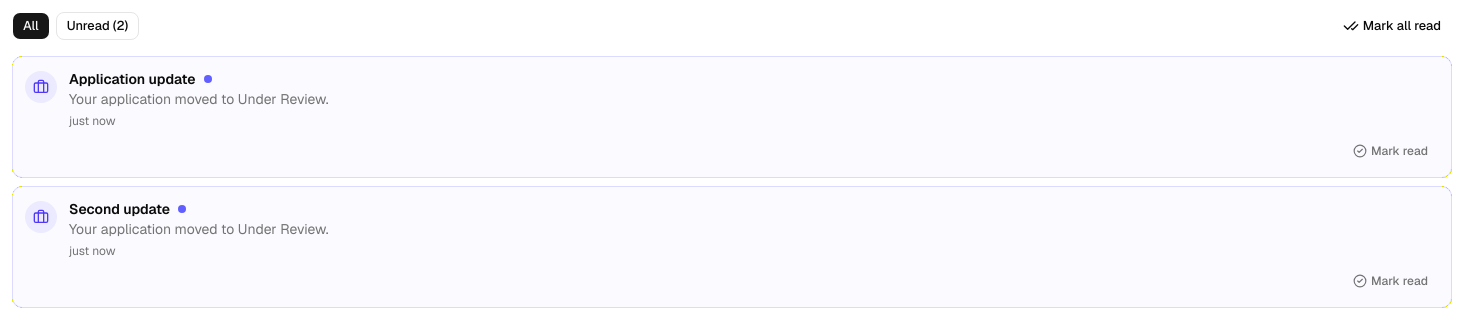
Test case: NotificationsView › marks all read and re-fetches
Expected: the text "Second update" is shown, x1=69 y1=199 x2=170 y2=219
Click the button "Mark all read". click: (1392,26)
box: x1=1332 y1=12 x2=1452 y2=40
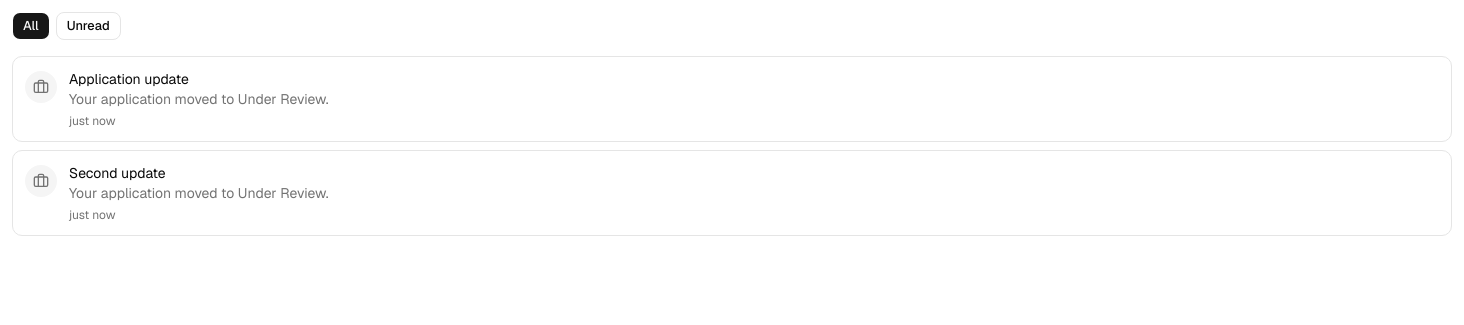
Result: the button "Mark all read" is gone
